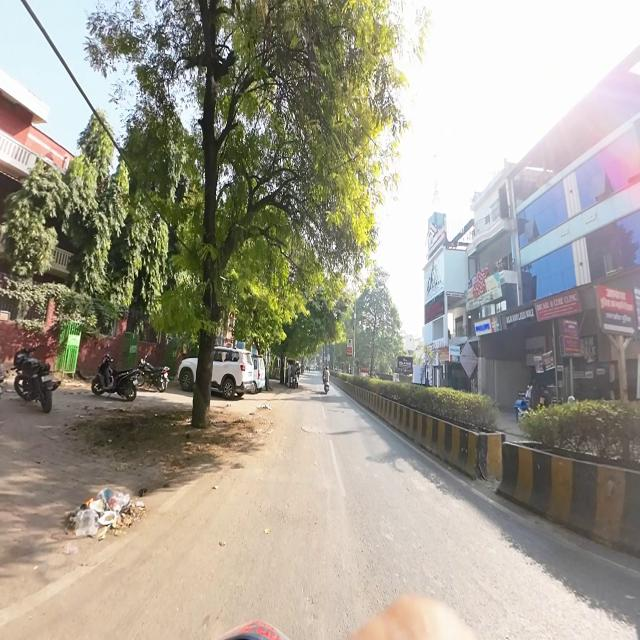Garbage: (74, 488, 129, 534)
